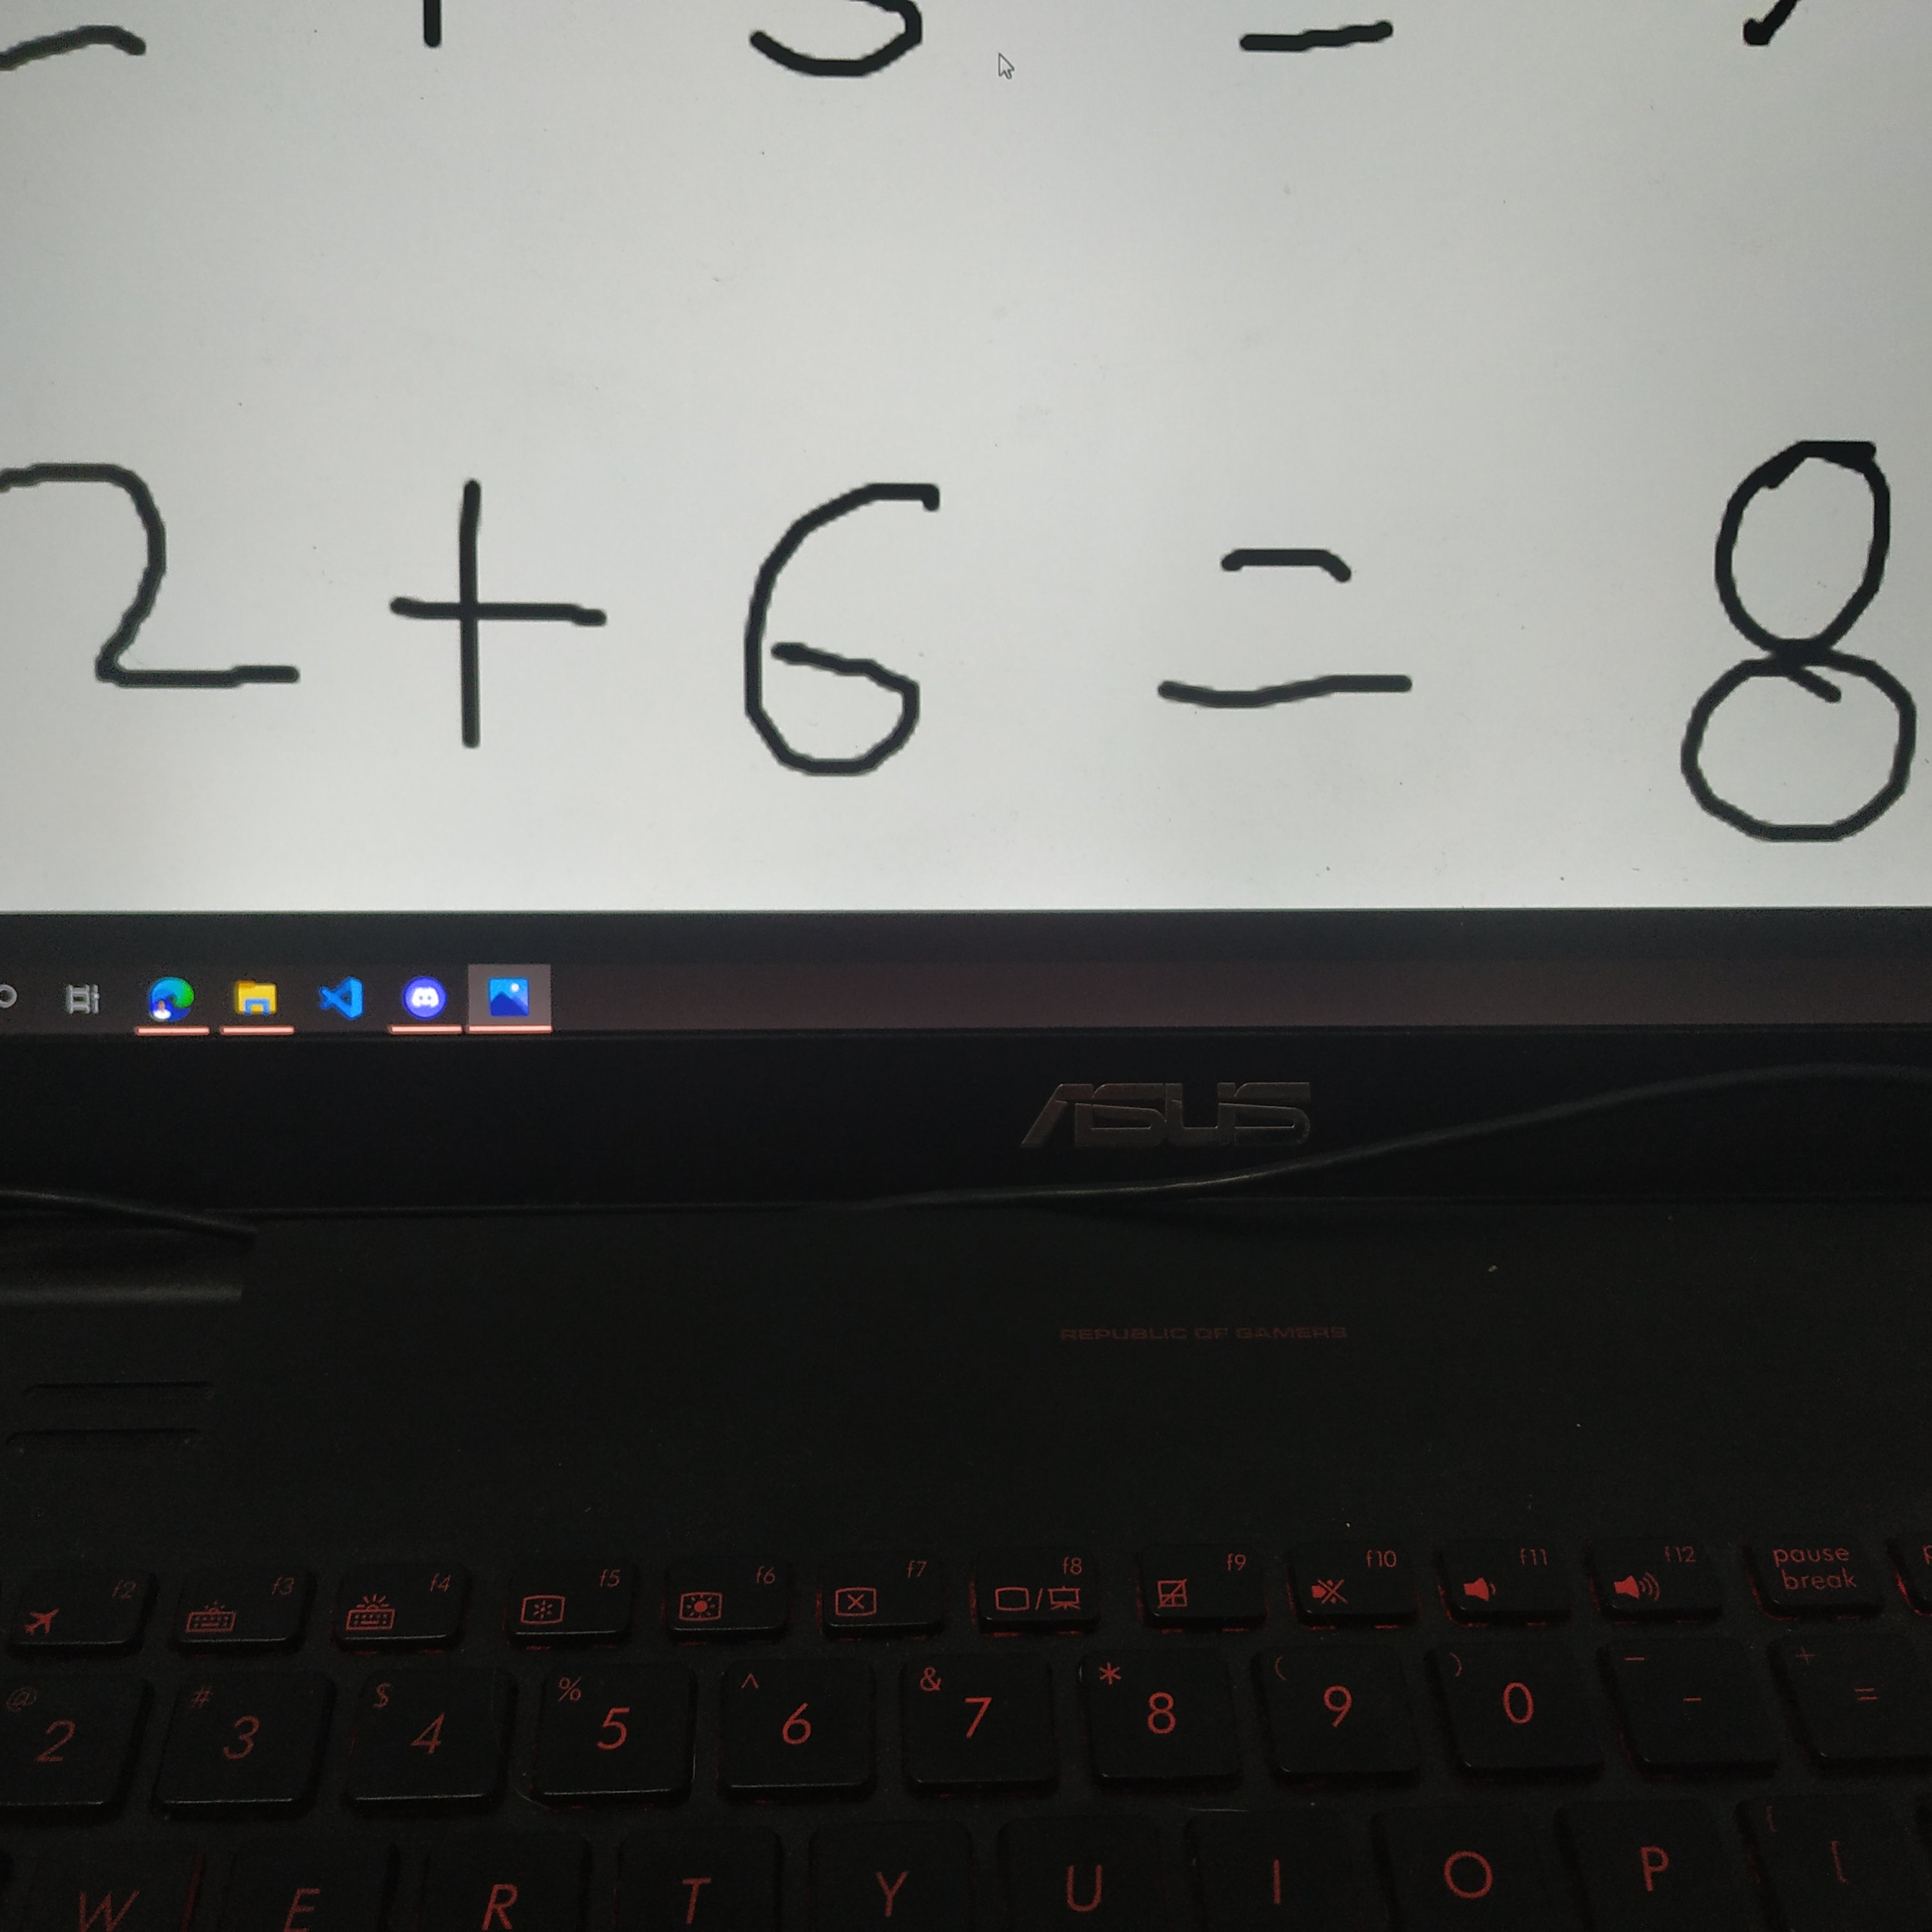equal: (1122, 521, 1502, 766)
num2: (1, 457, 328, 729)
num6: (717, 444, 1016, 814)
num8: (1606, 395, 1924, 873)
sum: (368, 465, 634, 777)
